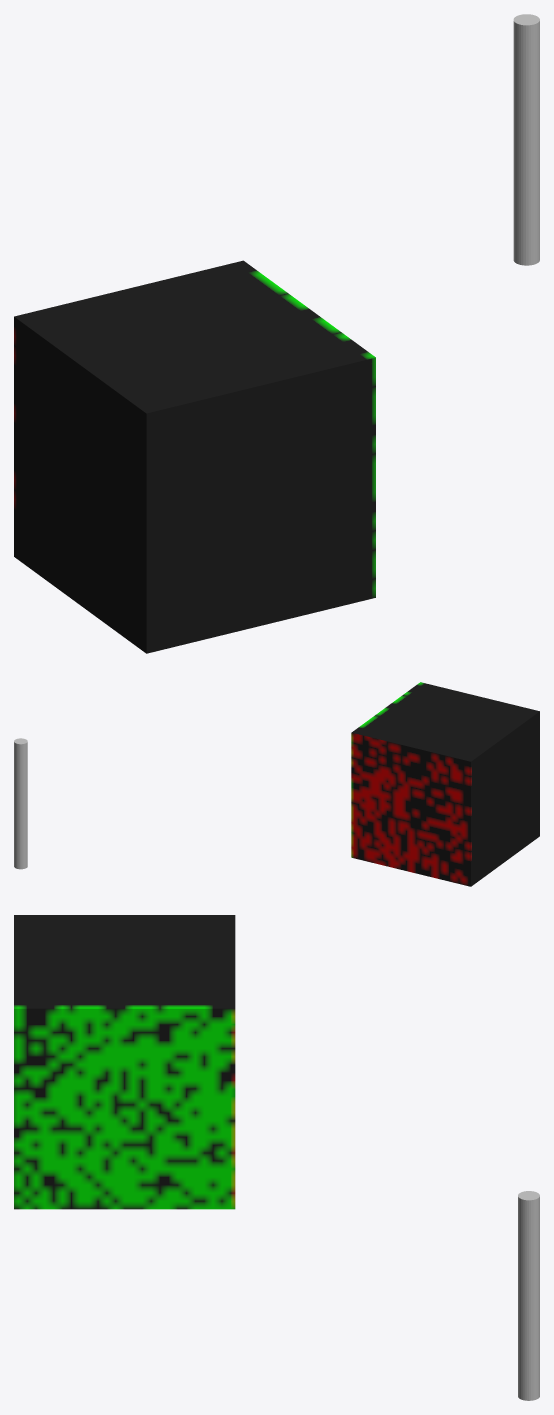
Rendered from 2bounce_test_geo_textured.obj.
3 renders of one model, top to bottom at view 1: azimuth 30°, elevation 25°; view 2: azimuth 150°, elevation 25°; view 3: azimuth 270°, elevation 25°, orthographic. The views are drawn at different scales.
Visible parts, largest first — view 1: Cube_Cube.006, skip-SRC_Cylinder; view 2: Cube_Cube.006, skip-SRC_Cylinder; view 3: Cube_Cube.006, skip-SRC_Cylinder.
Part boxes in pixels (x1,y1,x2,y2): Cube_Cube.006: [14, 260, 375, 653]; skip-SRC_Cylinder: [513, 14, 539, 265]; Cube_Cube.006: [351, 682, 539, 886]; skip-SRC_Cylinder: [14, 738, 27, 869]; Cube_Cube.006: [14, 915, 235, 1209]; skip-SRC_Cylinder: [518, 1191, 539, 1400].
Size of the model in its own units: 6.1 by 2 by 4.75.
